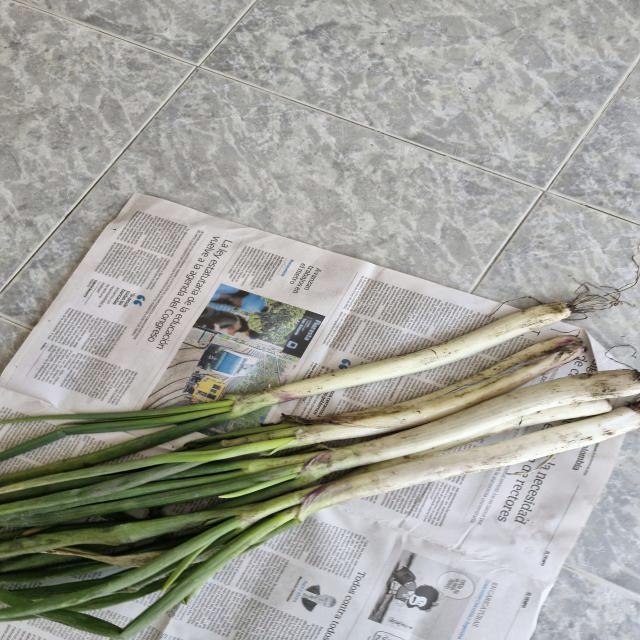green_onion: (0, 361, 640, 636), (0, 303, 578, 478)
